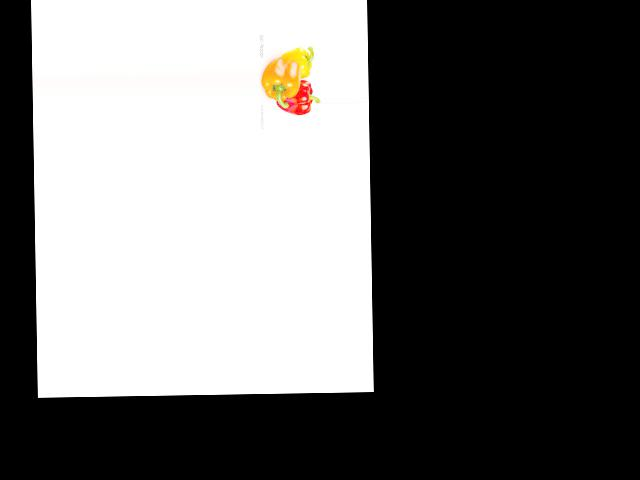bell_pepper: (279, 44, 316, 80)
